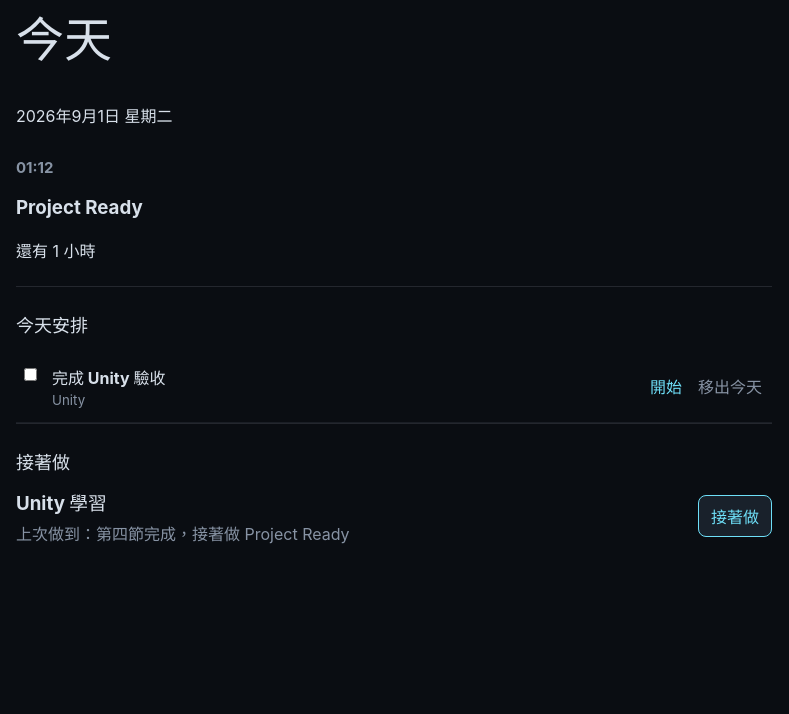
Test: TodayWorkspace › starts Todo focus and renders the linked context
The width and height of the screenshot is (789, 714).
Step 1. Click the button "開始" → (666, 386), box [644,373,688,399]
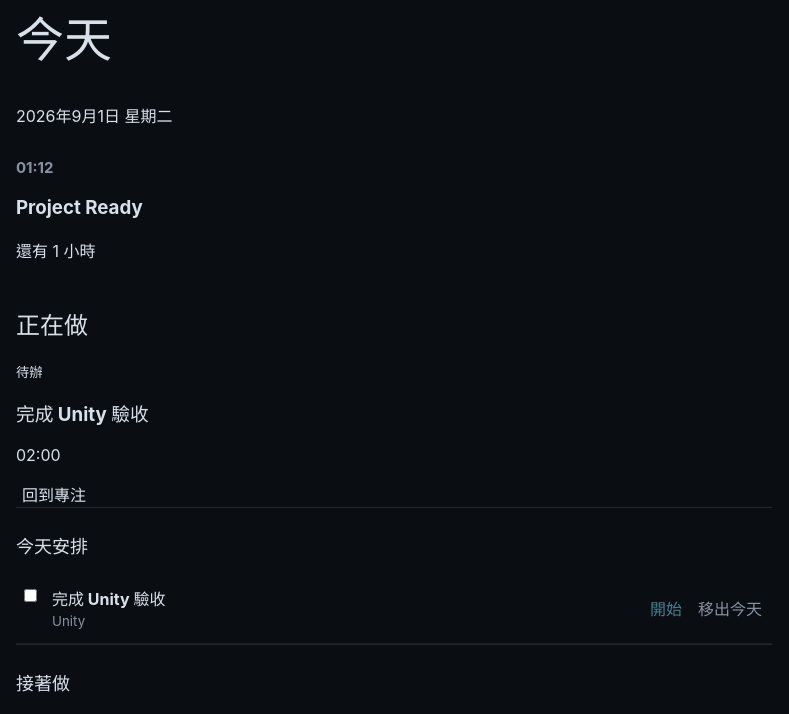
Check: the heading "正在做" is shown, box [16,311,88,340]
